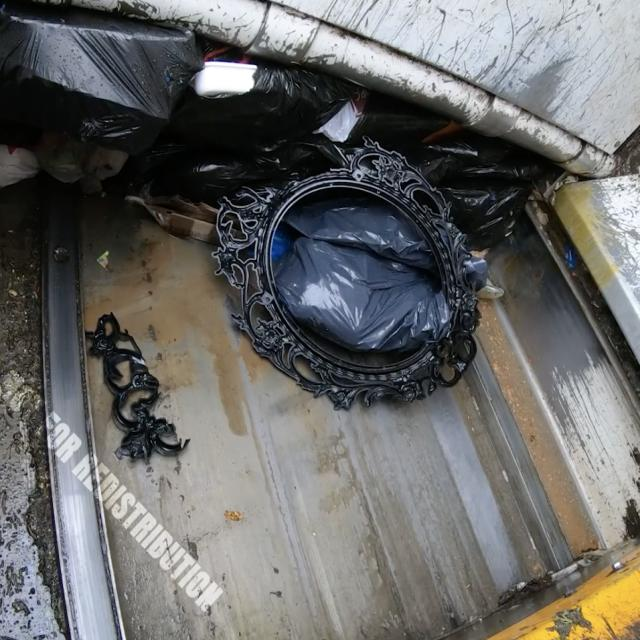bag: (0, 0, 201, 152)
furniture: (192, 123, 520, 433)
